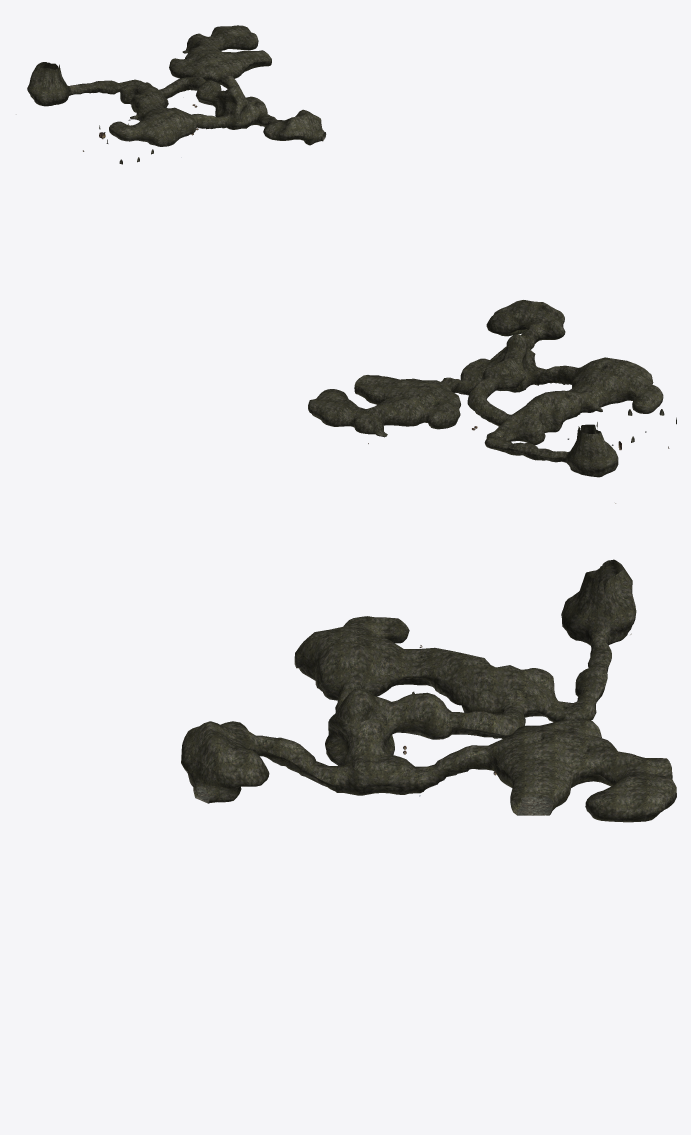
3 views of the same model, one above another, from view 1: azimuth 30°, elevation 25°; view 2: azimuth 150°, elevation 25°; view 3: azimuth 270°, elevation 25° (orthographic). The views are drawn at different scales.
Visible parts, largest first — view 1: Chunk-2_Mesh-0, Chunk-36_Mesh-0, Chunk-57_Mesh-0, Chunk-17_Mesh-0, Chunk-3_Mesh-0, Chunk-37_Mesh-0, Chunk-45_Mesh-0, Chunk-25_Mesh-0, Chunk-27_Mesh-0, Chunk-13_Mesh-0, Chunk-48_Mesh-0, Chunk-54_Mesh-0 (+5 smaller); view 2: Chunk-2_Mesh-0, Chunk-36_Mesh-0, Chunk-45_Mesh-0, Chunk-57_Mesh-0, Chunk-3_Mesh-0, Chunk-48_Mesh-0, Chunk-25_Mesh-0, Chunk-13_Mesh-0, Chunk-17_Mesh-0, Chunk-42_Mesh-0, Chunk-37_Mesh-0, Chunk-27_Mesh-0 (+1 smaller); view 3: Chunk-2_Mesh-0, Chunk-36_Mesh-0, Chunk-45_Mesh-0, Chunk-57_Mesh-0, Chunk-17_Mesh-0, Chunk-13_Mesh-0, Chunk-48_Mesh-0, Chunk-25_Mesh-0, Chunk-3_Mesh-0, Chunk-27_Mesh-0, Chunk-37_Mesh-0, Chunk-22_Mesh-0 (+4 smaller).
Boxes of the visible parts, x1,y1,x2,y2 form: Chunk-2_Mesh-0: [170, 25, 271, 78]; Chunk-36_Mesh-0: [110, 107, 196, 138]; Chunk-57_Mesh-0: [27, 62, 72, 106]; Chunk-17_Mesh-0: [196, 88, 267, 129]; Chunk-3_Mesh-0: [169, 38, 271, 85]; Chunk-37_Mesh-0: [109, 114, 196, 146]; Chunk-45_Mesh-0: [121, 79, 164, 113]; Chunk-25_Mesh-0: [267, 109, 320, 133]; Chunk-27_Mesh-0: [263, 119, 325, 144]; Chunk-13_Mesh-0: [198, 80, 265, 115]; Chunk-48_Mesh-0: [120, 87, 168, 121]; Chunk-54_Mesh-0: [69, 80, 126, 90]; Chunk-2_Mesh-0: [308, 375, 459, 436]; Chunk-36_Mesh-0: [570, 357, 663, 406]; Chunk-45_Mesh-0: [486, 387, 599, 446]; Chunk-57_Mesh-0: [565, 424, 618, 477]; Chunk-3_Mesh-0: [308, 384, 460, 437]; Chunk-48_Mesh-0: [484, 394, 600, 451]; Chunk-25_Mesh-0: [490, 300, 563, 331]; Chunk-13_Mesh-0: [462, 352, 521, 385]; Chunk-17_Mesh-0: [460, 348, 540, 390]; Chunk-42_Mesh-0: [467, 377, 509, 420]; Chunk-37_Mesh-0: [571, 376, 663, 413]; Chunk-27_Mesh-0: [486, 314, 565, 341]; Chunk-2_Mesh-0: [484, 720, 676, 811]; Chunk-36_Mesh-0: [299, 616, 408, 687]; Chunk-45_Mesh-0: [408, 647, 595, 717]; Chunk-57_Mesh-0: [561, 559, 636, 645]; Chunk-17_Mesh-0: [325, 713, 451, 795]; Chunk-13_Mesh-0: [345, 692, 451, 773]; Chunk-48_Mesh-0: [408, 672, 596, 722]; Chunk-25_Mesh-0: [186, 721, 261, 772]; Chunk-3_Mesh-0: [484, 729, 676, 822]; Chunk-27_Mesh-0: [181, 732, 269, 802]; Chunk-37_Mesh-0: [294, 626, 409, 700]; Chunk-22_Mesh-0: [259, 735, 343, 784].
Bounding box in the file's own units: 31267 × 5356 × 17608.
10 materials, 10 textured.
